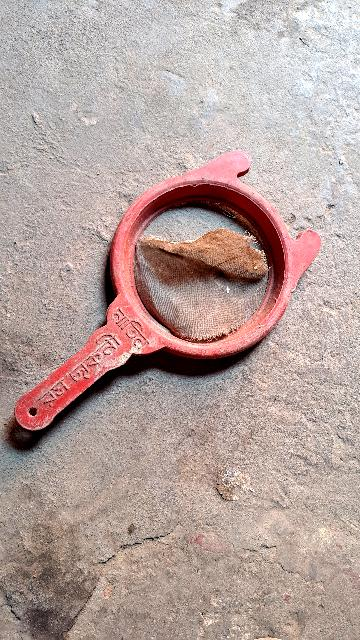hardplastic: (75, 120, 342, 387), (0, 293, 160, 454)
